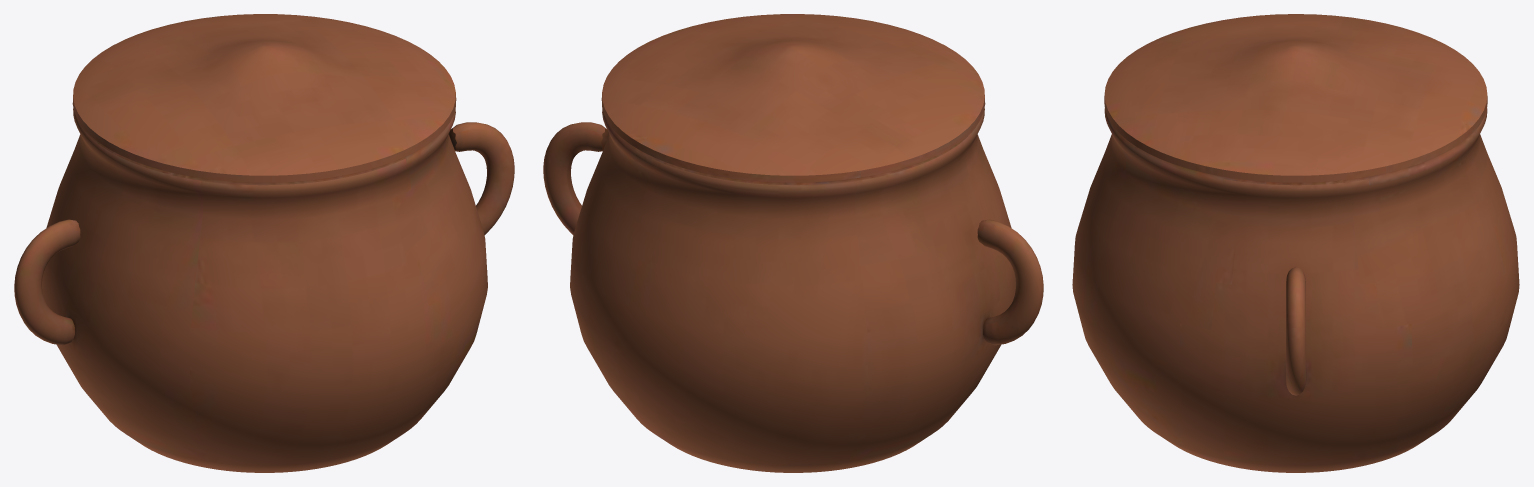
File: clay_pot.glb
3 views of the same model, side by side, from view 1: azimuth 30°, elevation 25°; view 2: azimuth 150°, elevation 25°; view 3: azimuth 270°, elevation 25° (orthographic).
Visible parts, largest first — view 1: clay_pot; view 2: clay_pot; view 3: clay_pot.
Part boxes in pixels (x1,y1,x2,y2): clay_pot: (14,14,514,472); clay_pot: (543,14,1043,472); clay_pot: (1072,14,1519,472).
Bounding box in the file's own units: 0.2062 × 0.1469 × 0.1602.
1 material, 1 textured.
